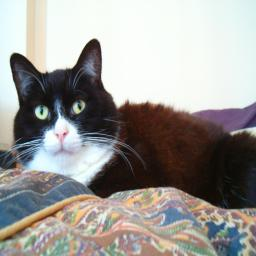catnose: (53, 126, 70, 144)
